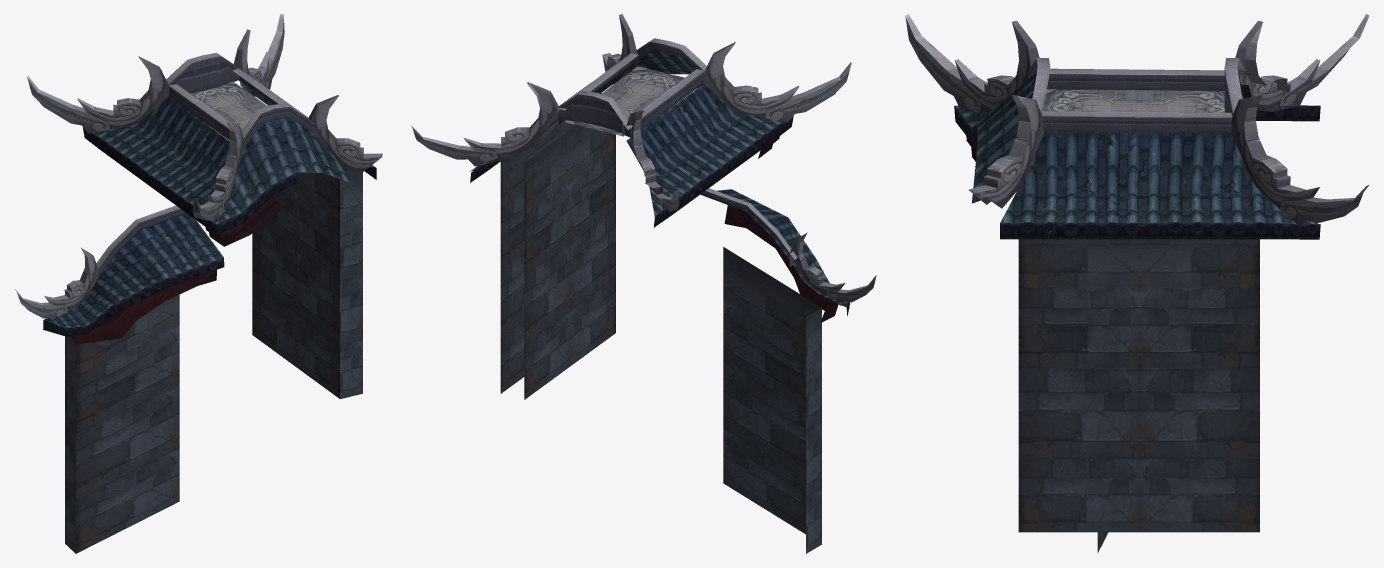
Rendered from fb_yuqinggong_zhujian03.FBX.
3 views of the same model, side by side, from view 1: azimuth 30°, elevation 25°; view 2: azimuth 150°, elevation 25°; view 3: azimuth 270°, elevation 25° (orthographic). The views are drawn at different scales.
Visible parts, largest first — view 1: fb_yuqinggong_zhujian03; view 2: fb_yuqinggong_zhujian03; view 3: fb_yuqinggong_zhujian03.
Part boxes in pixels (x1,y1,x2,y2): fb_yuqinggong_zhujian03: (15, 14, 382, 553); fb_yuqinggong_zhujian03: (411, 14, 876, 553); fb_yuqinggong_zhujian03: (905, 14, 1369, 552).
Bounding box in the file's own units: 898 × 1027 × 735.
